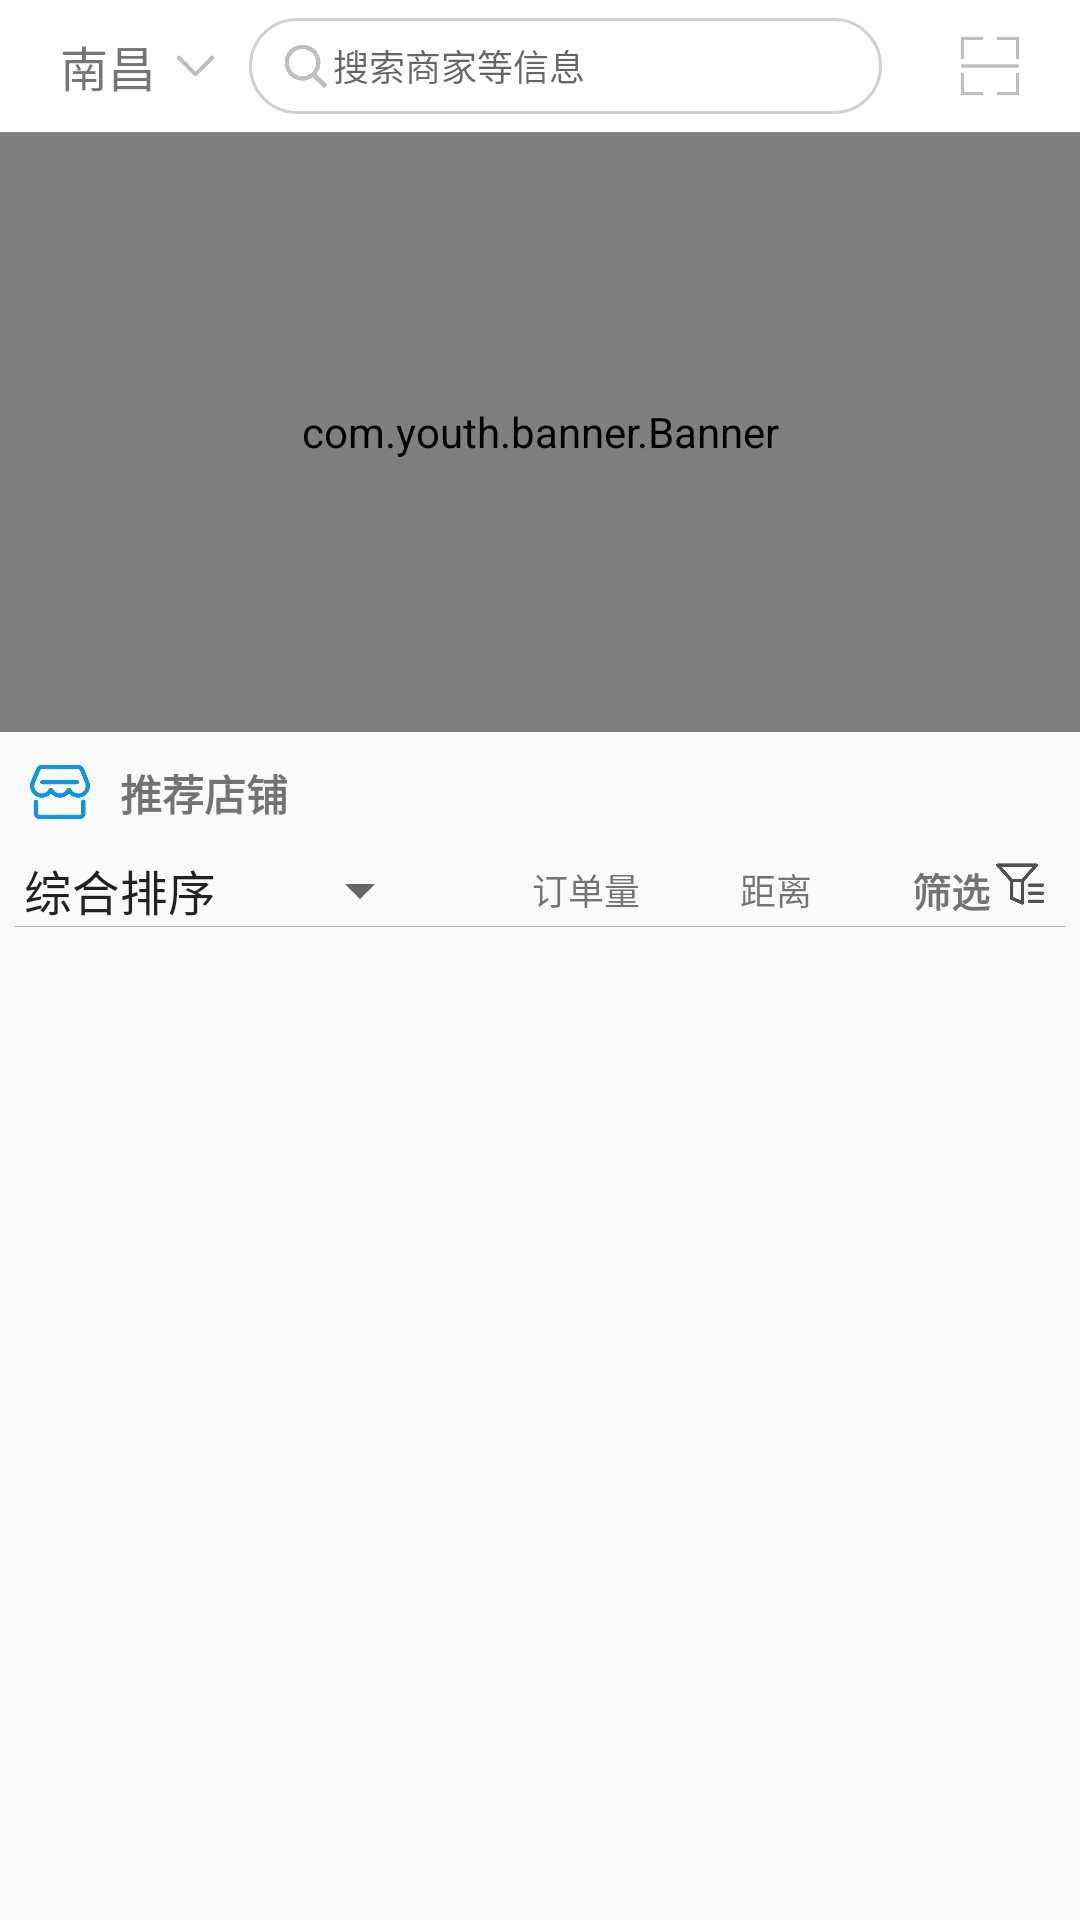

Named icons in this screenshot (1080 x 1920) and their centers, (x=x, y=y):
citychoose: (x=195, y=65)
sao: (x=990, y=66)
shop: (x=60, y=792)
